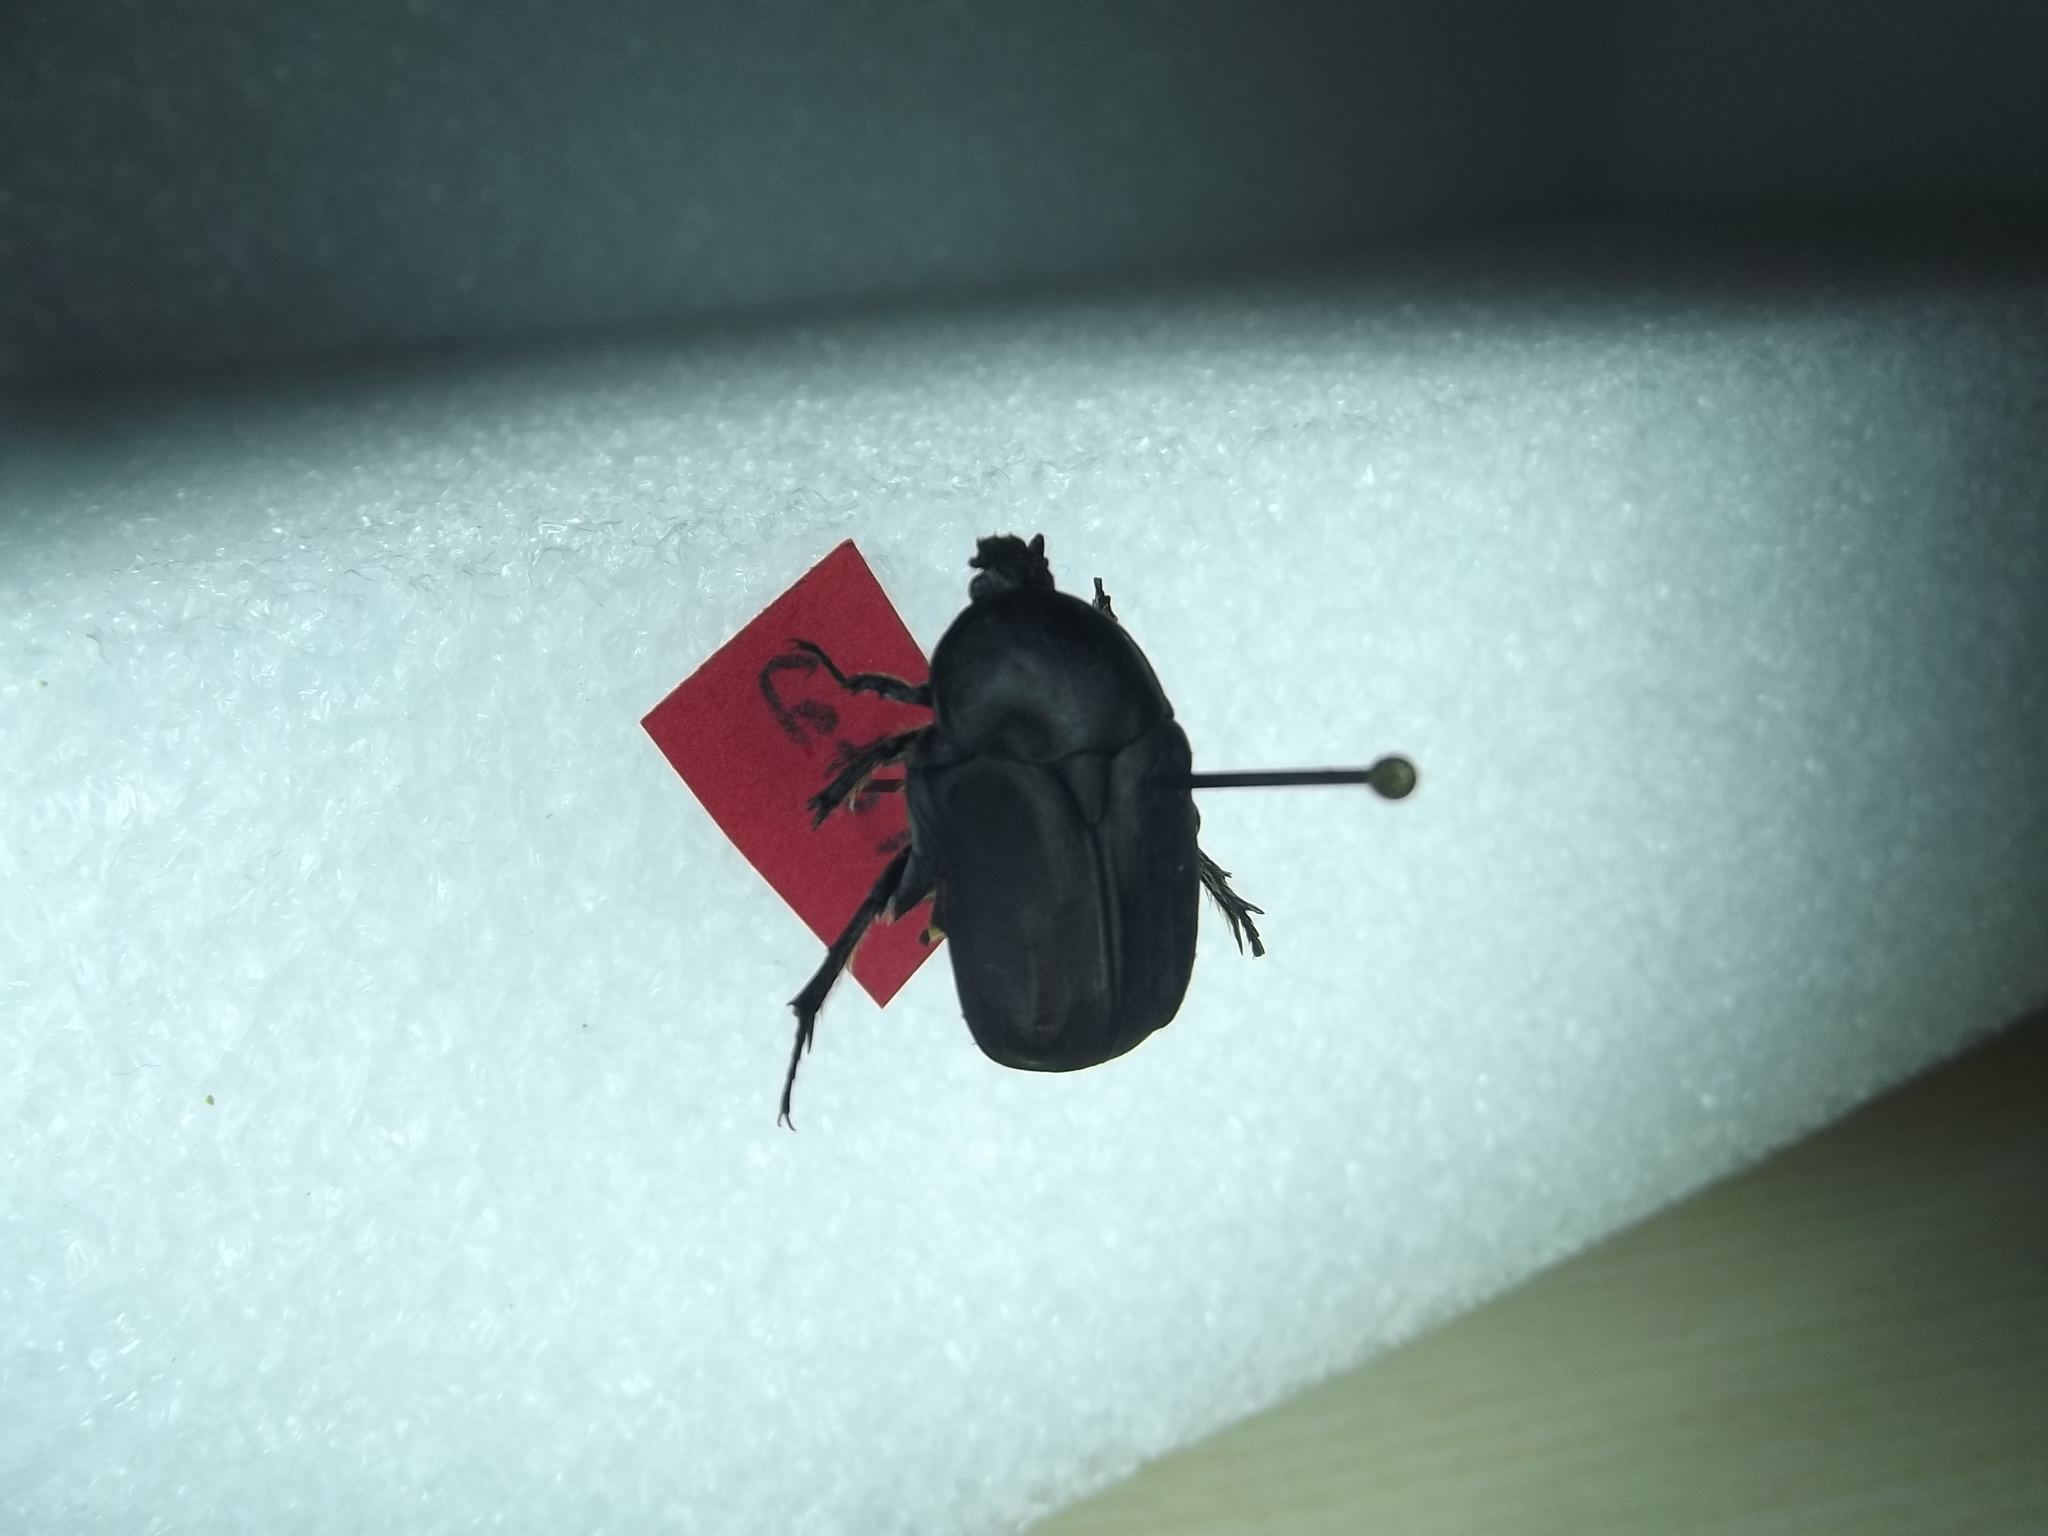Protaetia_vidua: (753, 516, 1274, 1137)
